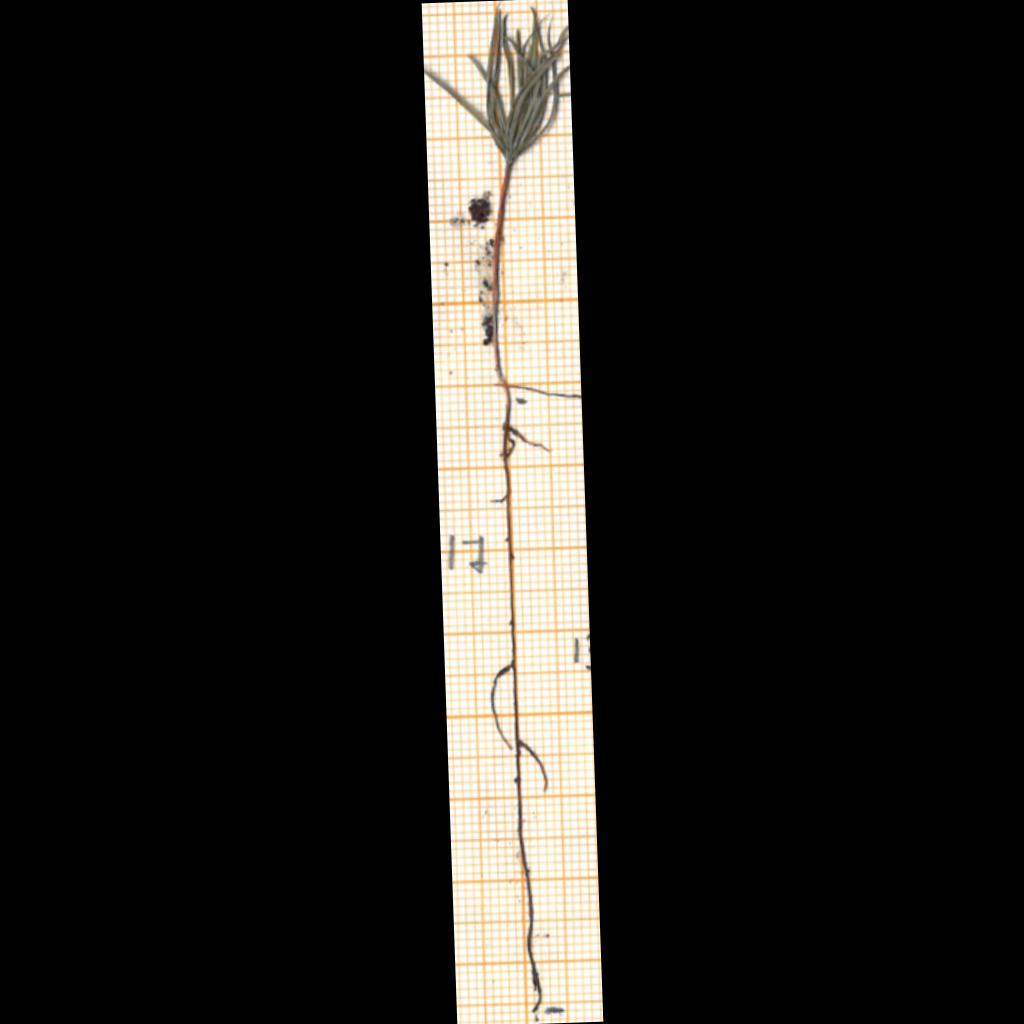flowerPinus: (424, 8, 569, 165)
rootPinus: (492, 392, 548, 1016)
stemPinus: (492, 164, 511, 394)
